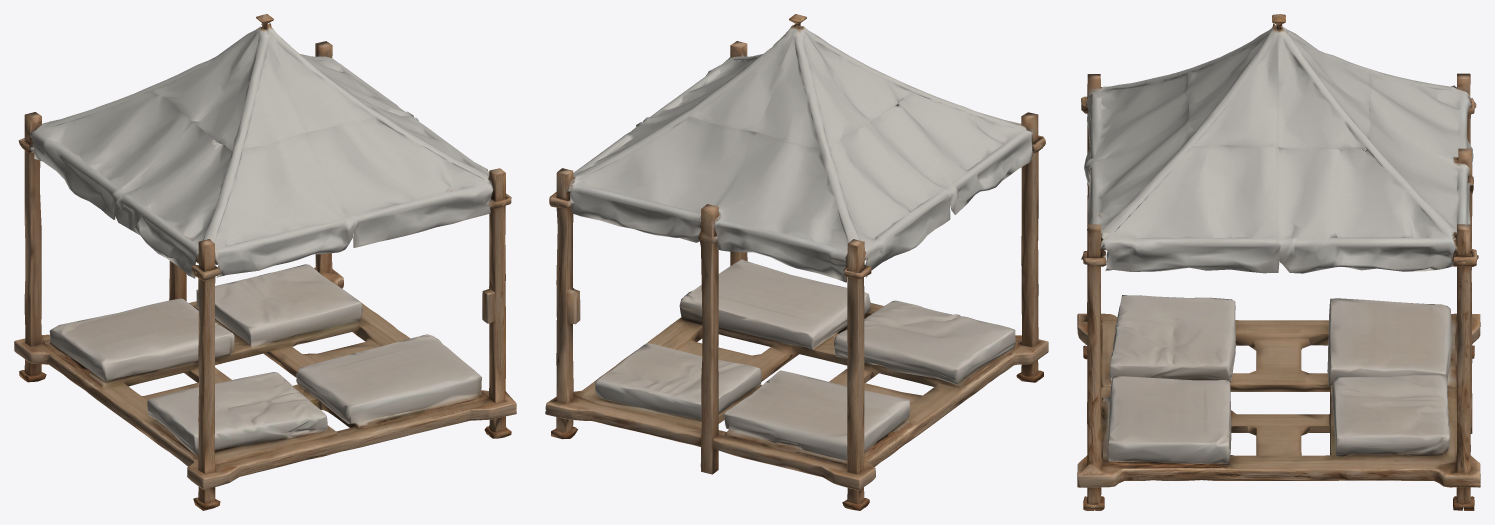
The model's file is resort-cabana.glb.
The picture shows the model from 3 angles, left to right: view 1: azimuth 30°, elevation 25°; view 2: azimuth 150°, elevation 25°; view 3: azimuth 270°, elevation 25°; orthographic projection. The views are drawn at different scales.
Parts seen in each view (by area): view 1: tripo_node_9108e910-f780-4707-b692-f3ad0279fcda; view 2: tripo_node_9108e910-f780-4707-b692-f3ad0279fcda; view 3: tripo_node_9108e910-f780-4707-b692-f3ad0279fcda.
Boxes of the visible parts, x1,y1,x2,y2 form: tripo_node_9108e910-f780-4707-b692-f3ad0279fcda: (14,14,516,510); tripo_node_9108e910-f780-4707-b692-f3ad0279fcda: (545,14,1048,510); tripo_node_9108e910-f780-4707-b692-f3ad0279fcda: (1077,14,1480,510).
Bounding box in the file's own units: 0.8246 × 0.9789 × 0.8593.
Materials: 1 (1 with a texture image).
